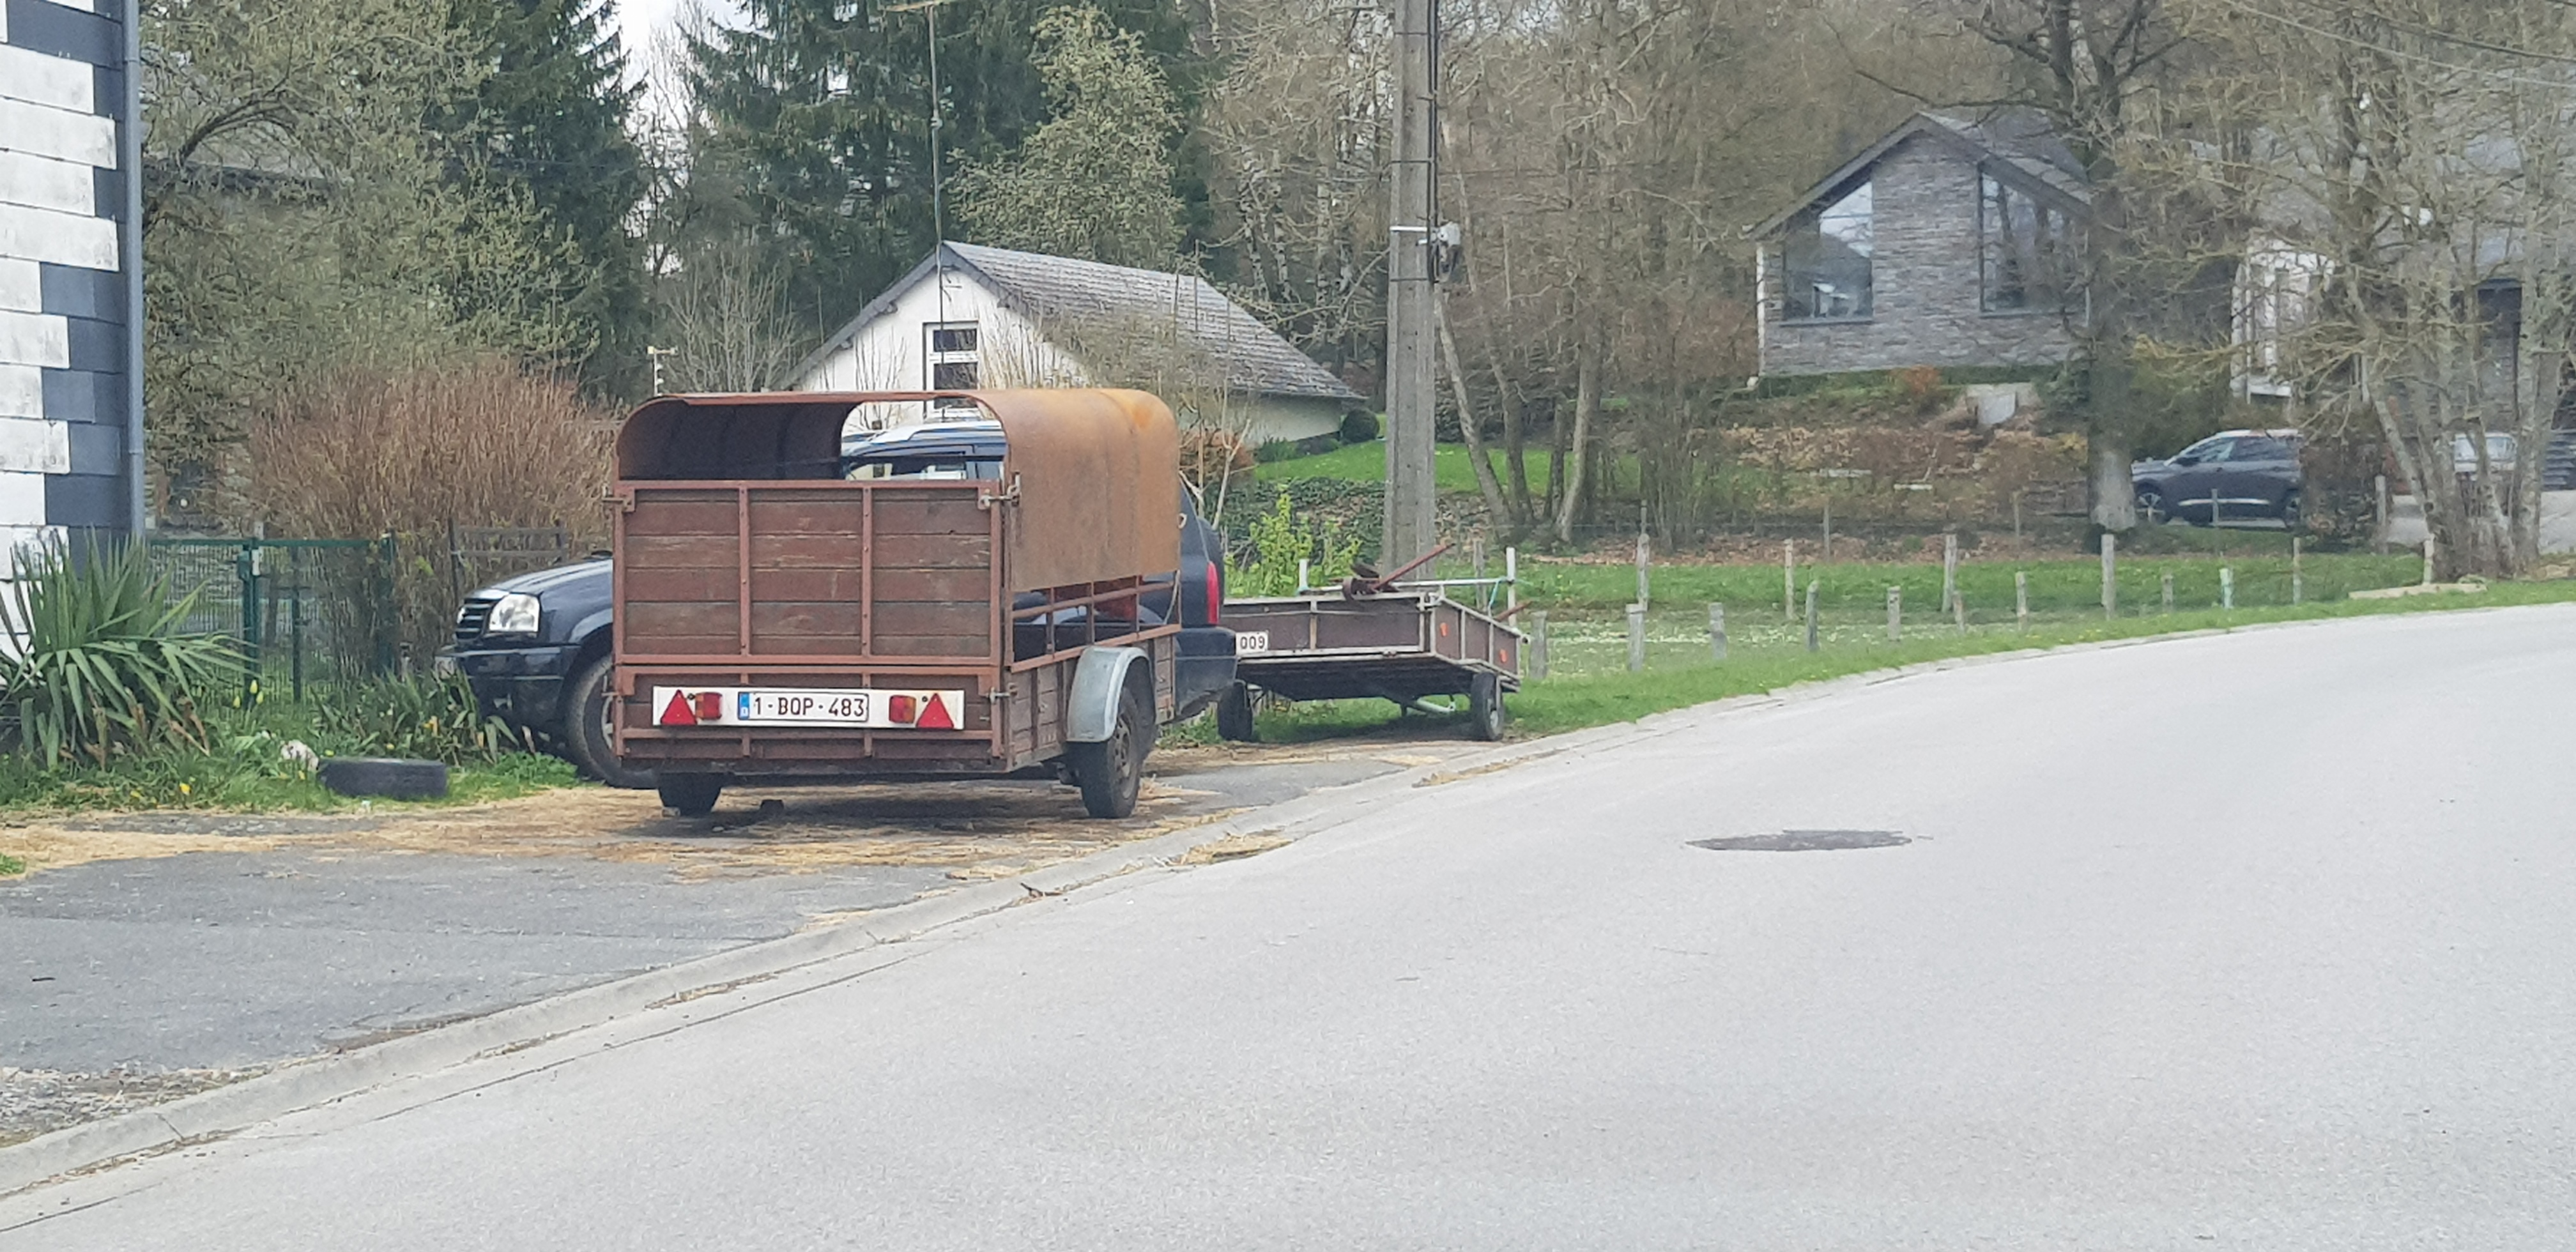licenceplate: (736, 691, 870, 724)
